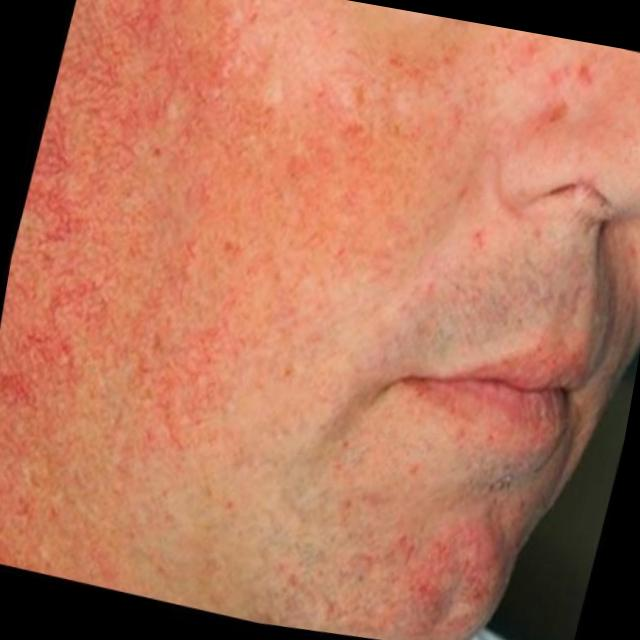redness: (0, 0, 449, 538), (392, 513, 511, 637)
